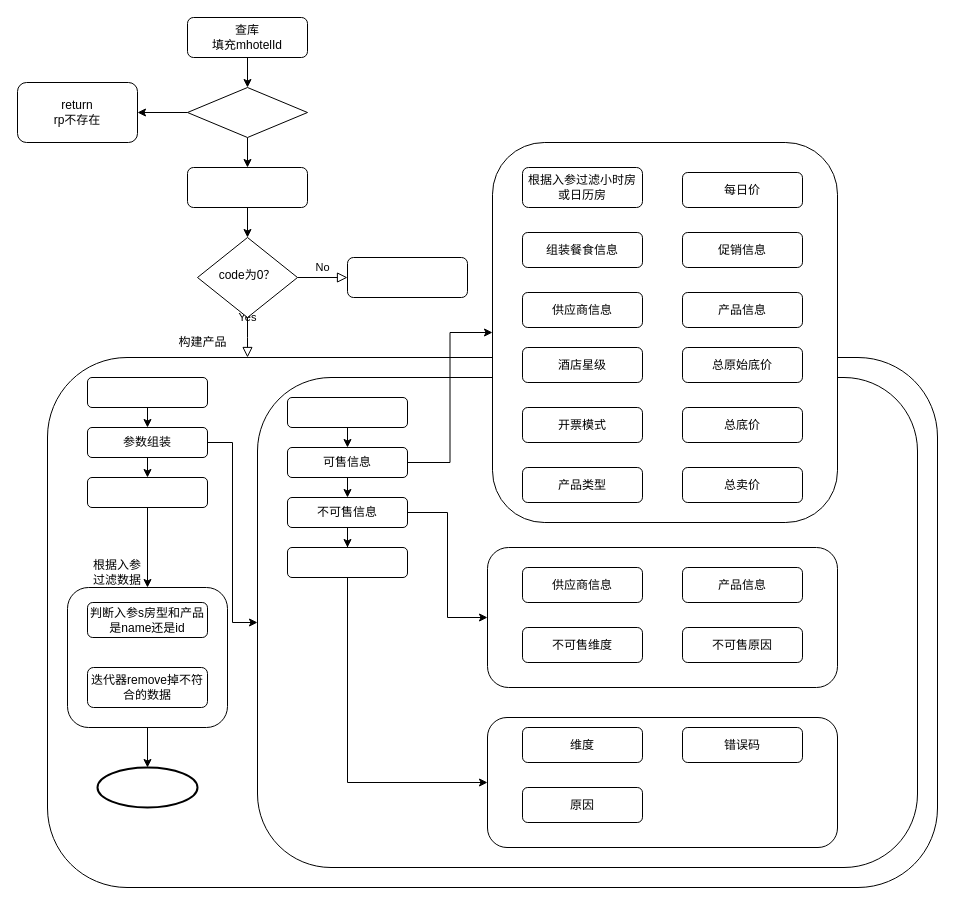
Some shapes in this 955 by 905 pixel diagram are drawn without their labels. Each missing label, with the centre of its shape:
end: point (147, 787)
mhotelId为空?: point (247, 112)
不可解析数据: point (347, 562)
数据排序: point (147, 492)
查库，获取补充信息: point (147, 392)
组装不可售信息返回: point (407, 277)
调hotelDetail接口: point (247, 187)
酒店静态信息: point (347, 412)
